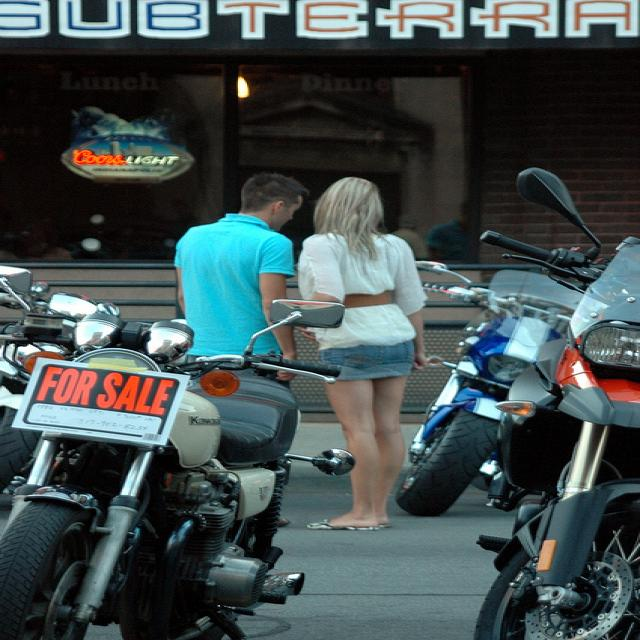motor: (0, 289, 354, 632), (460, 163, 640, 639), (389, 258, 577, 517), (2, 269, 73, 502)
